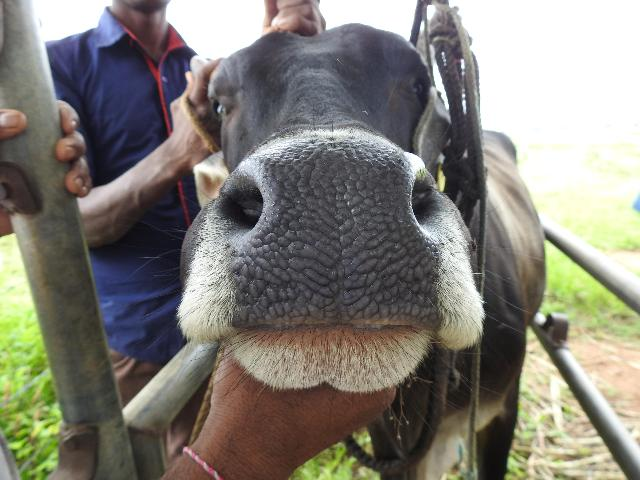Muzzle: (239, 146, 437, 332)
